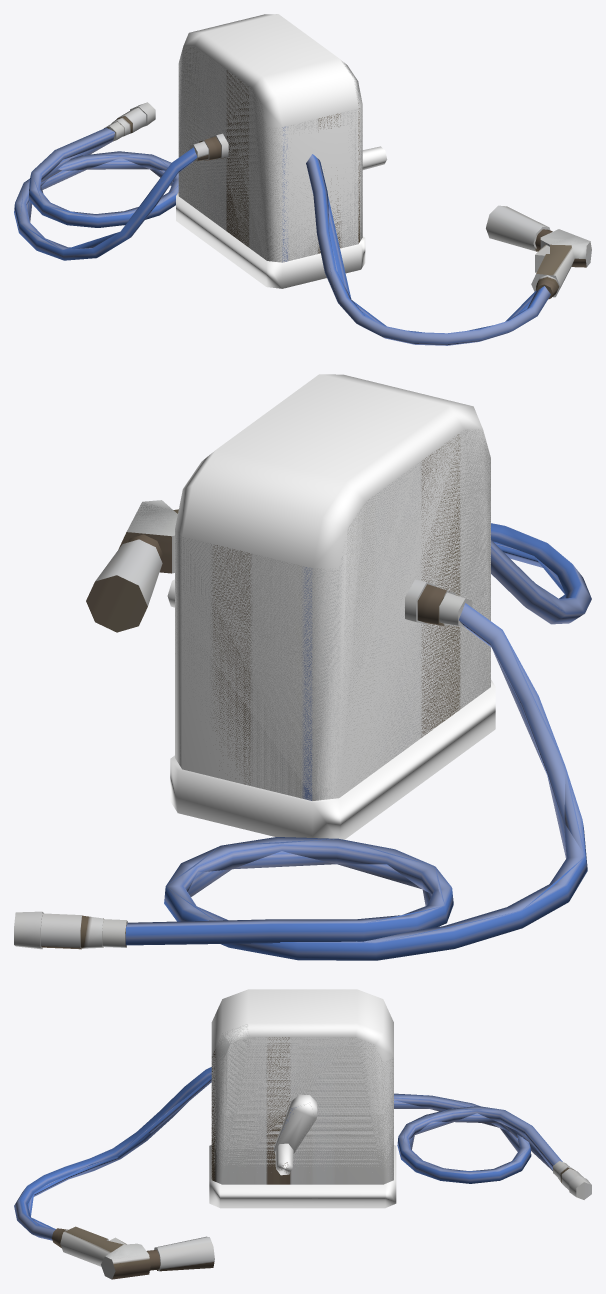
The model's file is objects_un_dlc1_t10hose01.gltf.
The picture shows the model from 3 angles, top to bottom: view 1: azimuth 30°, elevation 25°; view 2: azimuth 150°, elevation 25°; view 3: azimuth 270°, elevation 25°; orthographic projection. The views are drawn at different scales.
Visible parts, largest first — view 1: um_objects_un_dlc1_t10hose01_model_lod0Shape:objects_un_dlc1 (×2), um_objects_un_dlc1_t10hose01_model_lod1Shape:objects_un_dlc1 (×2); view 2: um_objects_un_dlc1_t10hose01_model_lod0Shape:objects_un_dlc1 (×2), um_objects_un_dlc1_t10hose01_model_lod1Shape:objects_un_dlc1 (×2); view 3: um_objects_un_dlc1_t10hose01_model_lod0Shape:objects_un_dlc1 (×2), um_objects_un_dlc1_t10hose01_model_lod1Shape:objects_un_dlc1 (×2).
Boxes of the visible parts, x1,y1,x2,y2 form: um_objects_un_dlc1_t10hose01_model_lod0Shape:objects_un_dlc1 (×2): [14, 14, 591, 345]; um_objects_un_dlc1_t10hose01_model_lod1Shape:objects_un_dlc1 (×2): [20, 47, 586, 332]; um_objects_un_dlc1_t10hose01_model_lod0Shape:objects_un_dlc1 (×2): [14, 374, 591, 960]; um_objects_un_dlc1_t10hose01_model_lod1Shape:objects_un_dlc1 (×2): [95, 429, 584, 945]; um_objects_un_dlc1_t10hose01_model_lod0Shape:objects_un_dlc1 (×2): [14, 989, 591, 1279]; um_objects_un_dlc1_t10hose01_model_lod1Shape:objects_un_dlc1 (×2): [27, 1024, 585, 1279].
Size of what is drawn, in the model's own units: 0.9337 by 0.4402 by 1.26.
2 materials, 1 textured.
